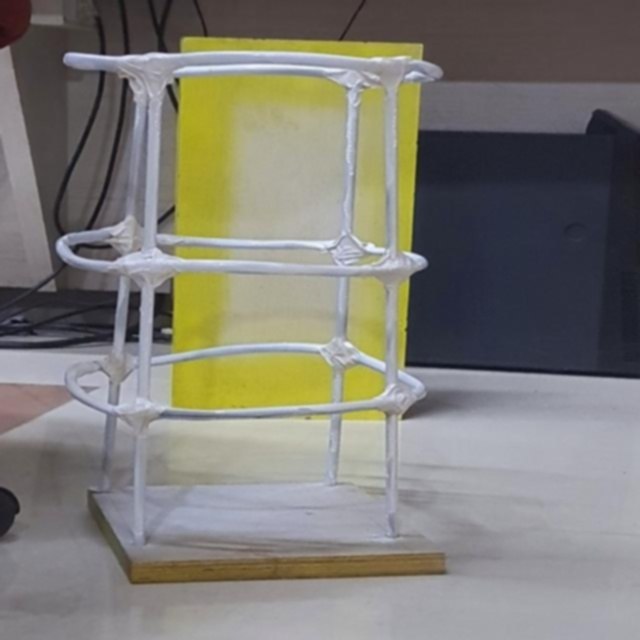silo: (68, 43, 436, 565)
